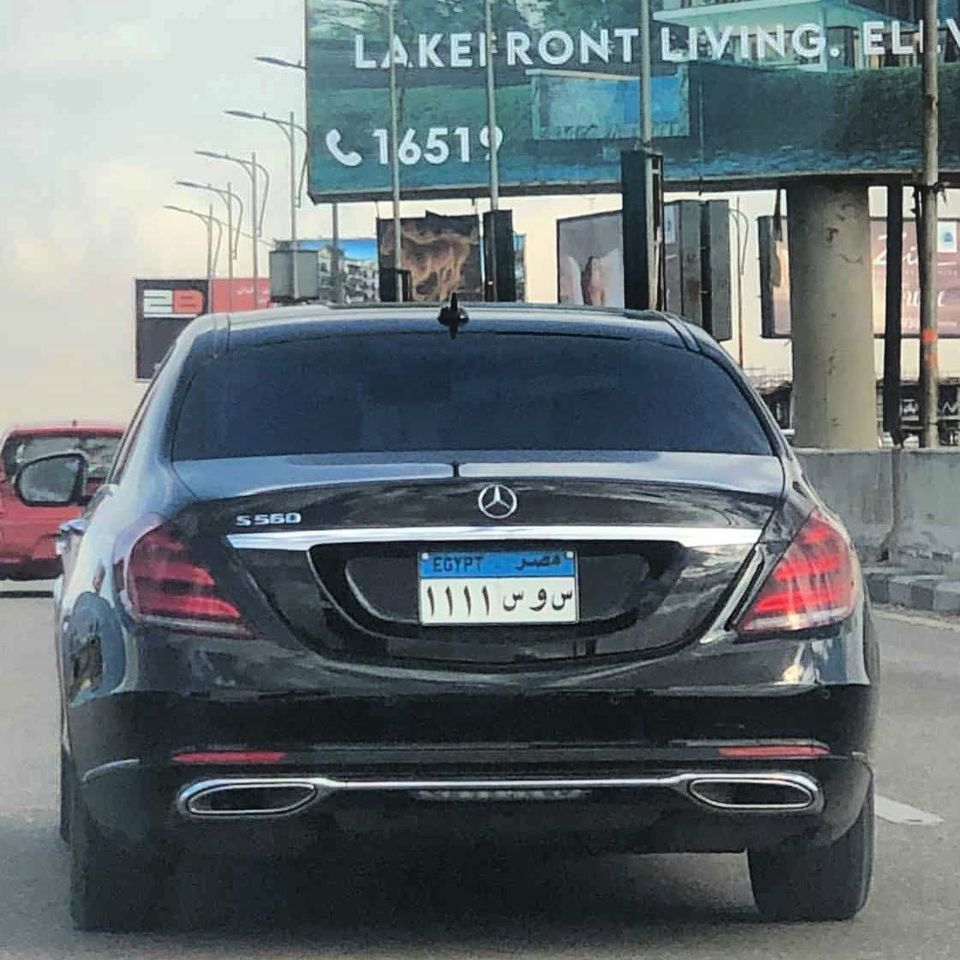carpl: (414, 547, 580, 627)
